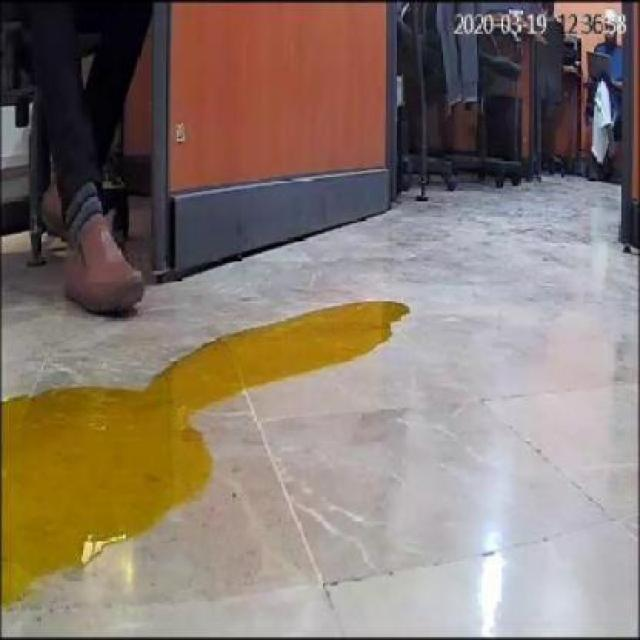spillage: (1, 302, 405, 611)
